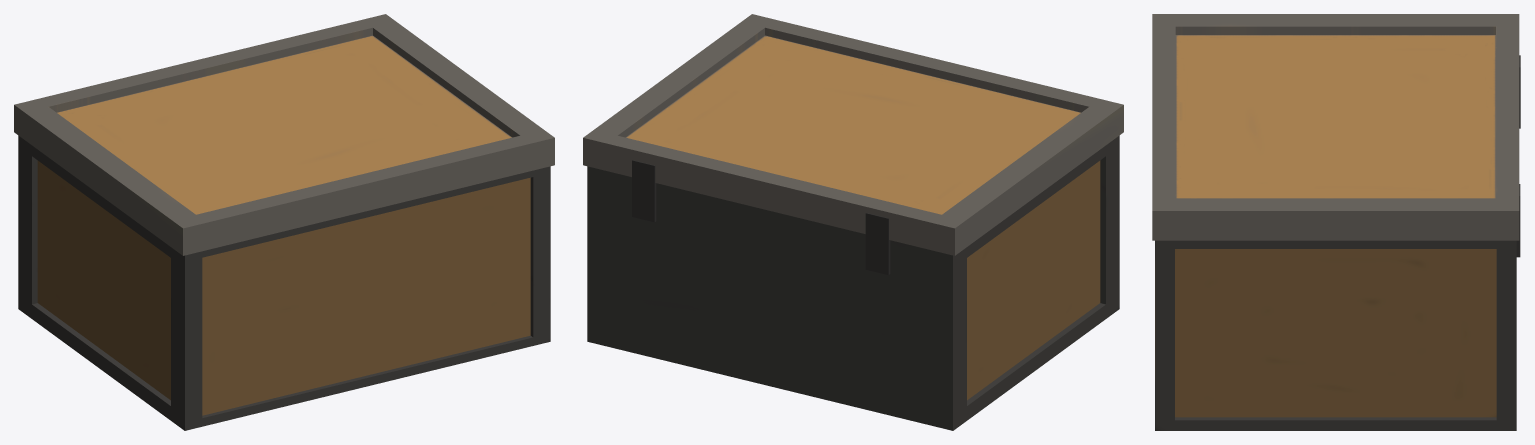
Rendered from Chest.fbx.
3 renders of one model, left to right at view 1: azimuth 30°, elevation 25°; view 2: azimuth 150°, elevation 25°; view 3: azimuth 270°, elevation 25°, orthographic. The views are drawn at different scales.
Parts seen in each view (by area): view 1: Crate, Lid; view 2: Crate, Lid, LeftLatch, RightLatch; view 3: Lid, Crate.
Boxes of the visible parts, bbox=[...] form: Crate: bbox=[18, 135, 550, 430]; Lid: bbox=[14, 14, 554, 255]; Crate: bbox=[587, 135, 1119, 430]; Lid: bbox=[583, 14, 1123, 255]; LeftLatch: bbox=[865, 213, 890, 274]; RightLatch: bbox=[632, 160, 656, 222]; Lid: bbox=[1152, 14, 1519, 240]; Crate: bbox=[1155, 240, 1516, 430].
Bounding box in the file's own units: 362 × 190 × 286.
